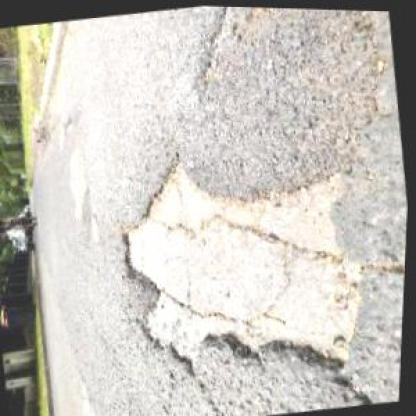pothole: (103, 129, 380, 401)
